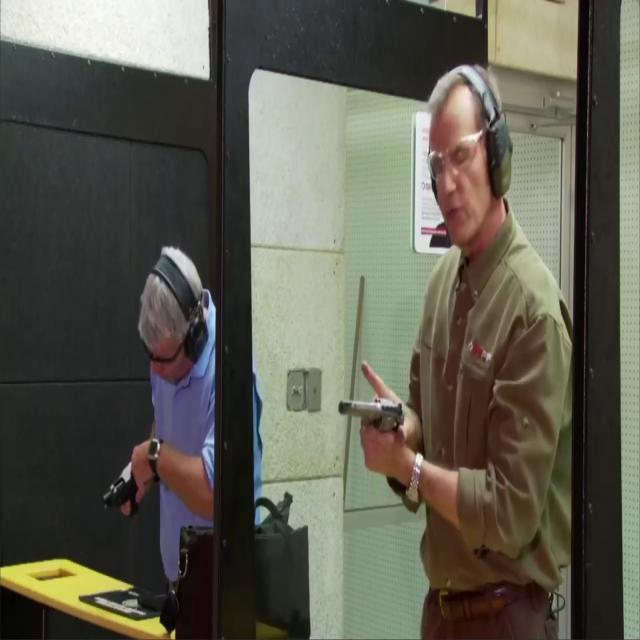gun: (338, 394, 406, 437), (103, 454, 145, 520)
